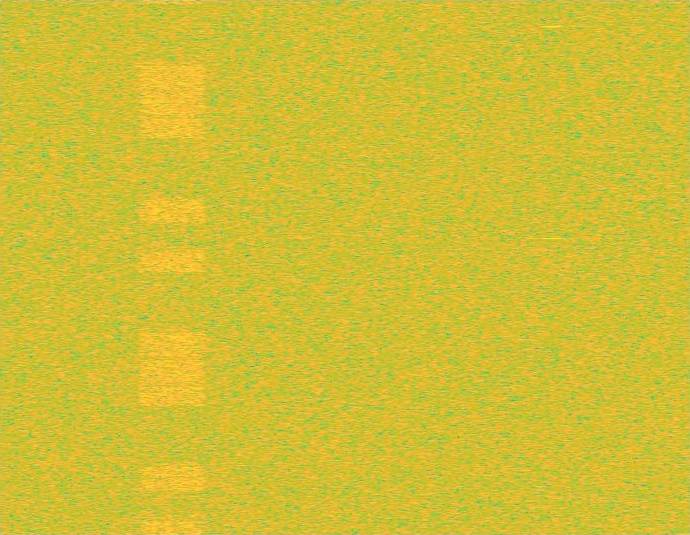LTE: (138, 0, 207, 534)
Radar: (546, 0, 559, 534)
